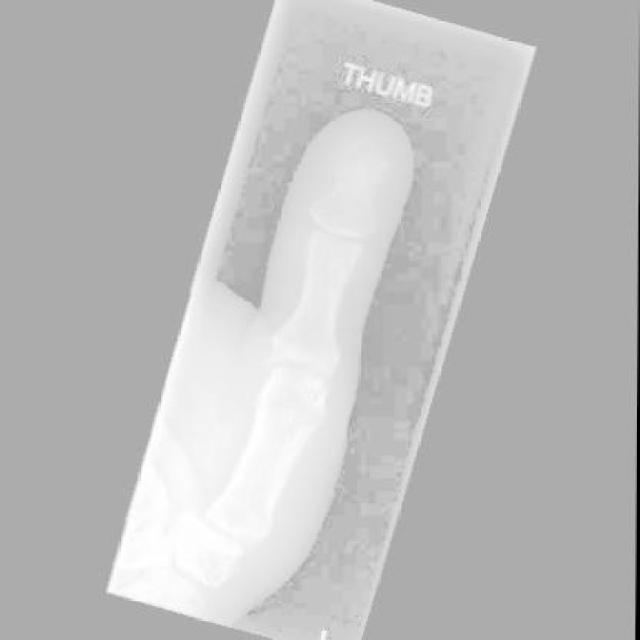Fracture: (325, 128, 398, 196)
